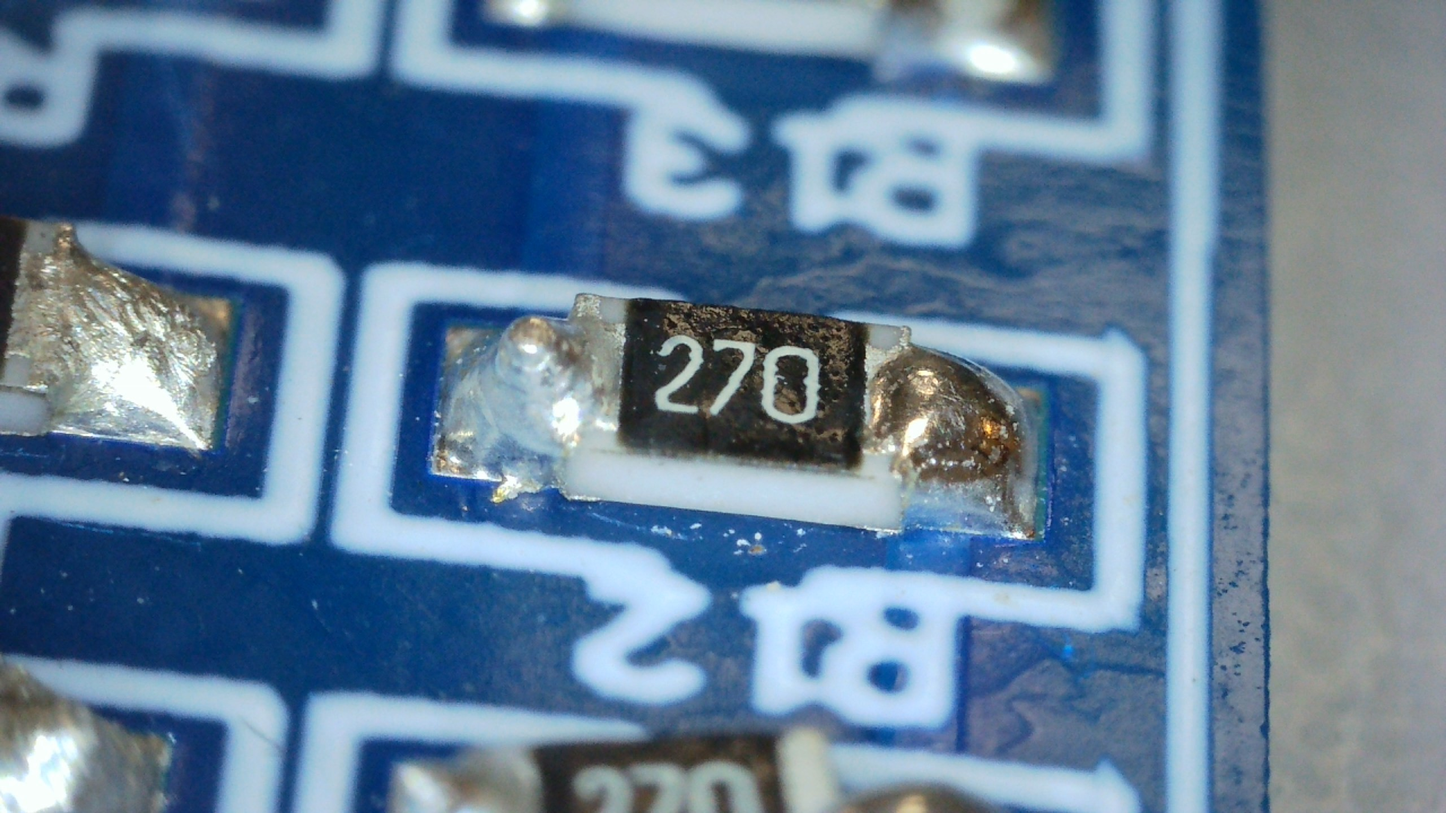NG: (861, 324, 1040, 539), (440, 315, 624, 503)
